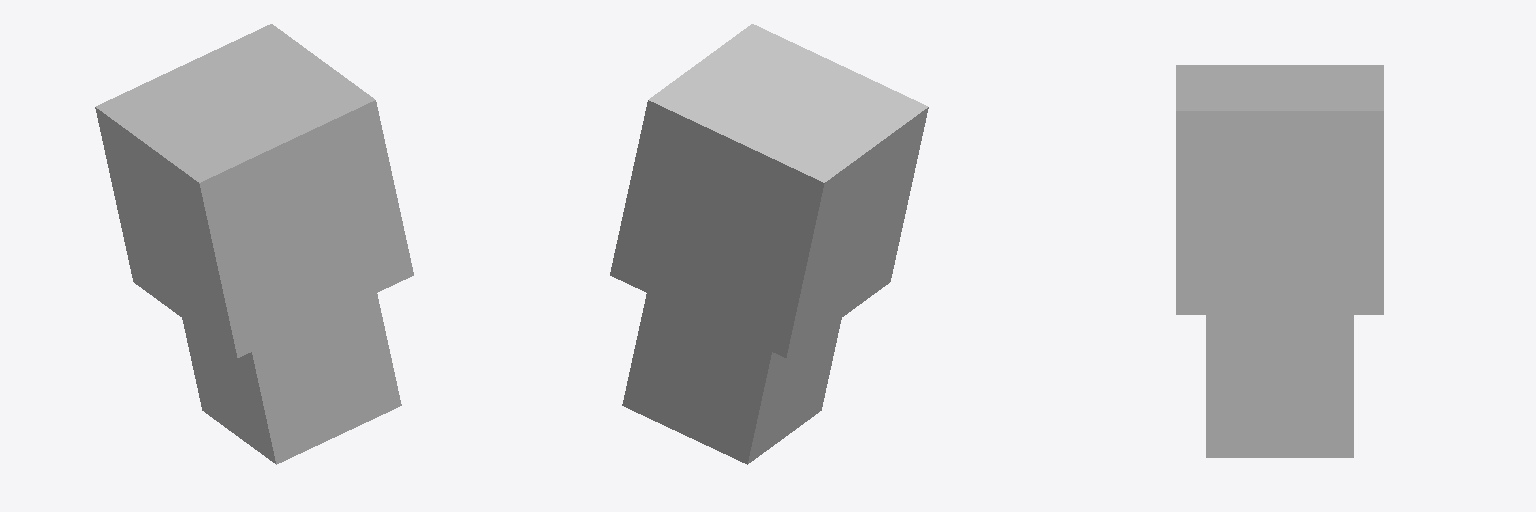
Rendered from R_ShoulderArmO.obj.
The picture shows the model from 3 angles: view 1: azimuth 30°, elevation 25°; view 2: azimuth 150°, elevation 25°; view 3: azimuth 270°, elevation 25°; orthographic projection.
Visible parts, largest first — view 1: pCube48; view 2: pCube48; view 3: pCube48.
Part boxes in pixels (left/top/right/bottom): pCube48: left=95, top=24, right=413, bottom=464; pCube48: left=610, top=24, right=928, bottom=464; pCube48: left=1176, top=65, right=1383, bottom=457.
Bounding box in the file's own units: 1.2 × 1.88 × 1.